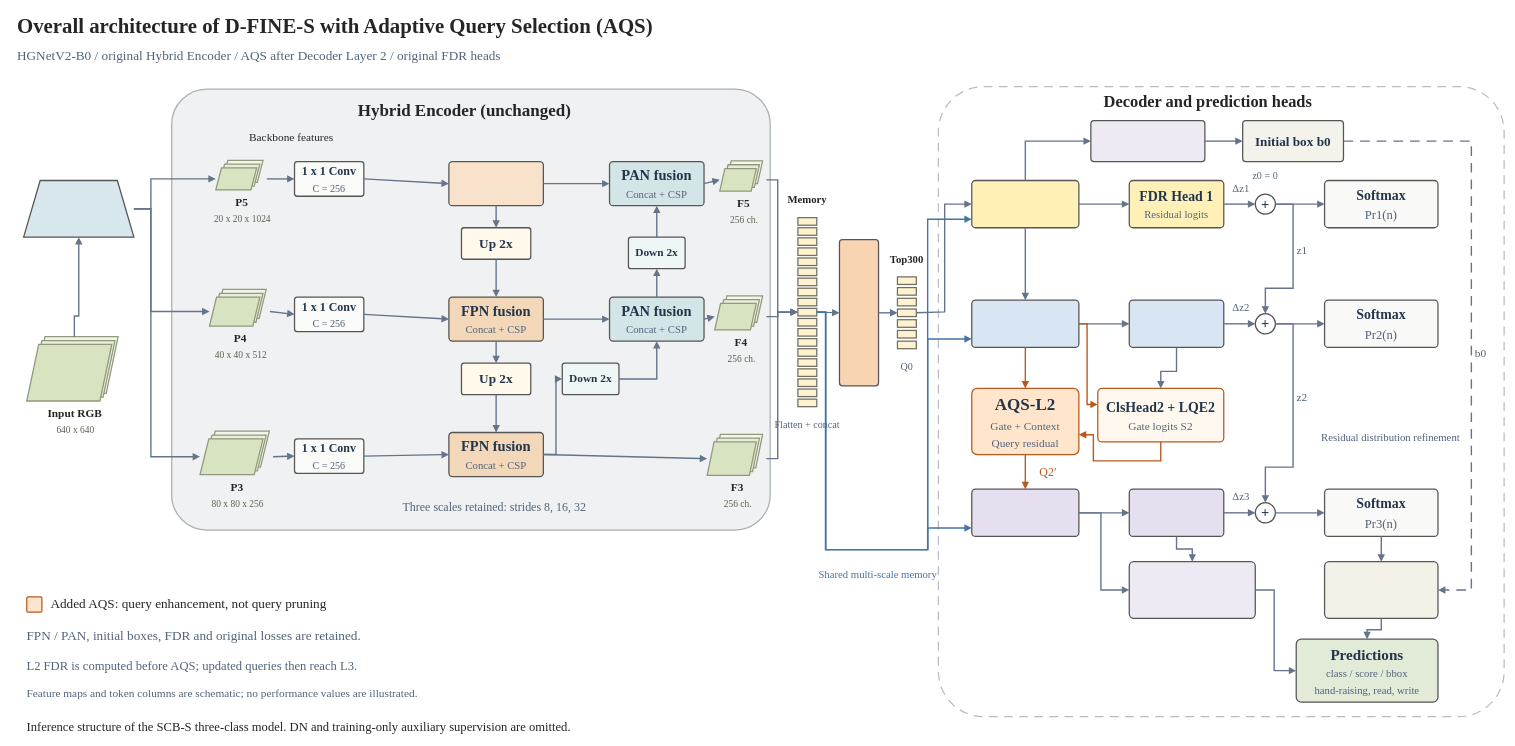
The diagram is 1515 pixels wide and 746 high, and some of its shapes have lost their labels. The shapes that lost their labels are listed below. From the top down, each one's centre as x and y in pixels, then its label:
the point at 1147,141: Traditional Head Layer 1 bbox
the point at 496,183: AIFI P5 self-attention
the point at 78,209: Backbone HGNetV2-B0
the point at 1025,204: Decoder Layer 1 SA + MSCA + FFN
the point at 859,312: Query selection
the point at 1025,323: Decoder Layer 2 SA + MSCA + FFN
the point at 1176,323: FDR Head 2 Residual logits
the point at 1025,512: Decoder Layer 3 SA + MSCA + FFN
the point at 1176,512: FDR Head 3 Residual logits
the point at 1192,590: ClsHead3 + LQE3 Final class logits
the point at 1381,590: FDR integral Σ W(n)Pr3(n) + initial box b0
